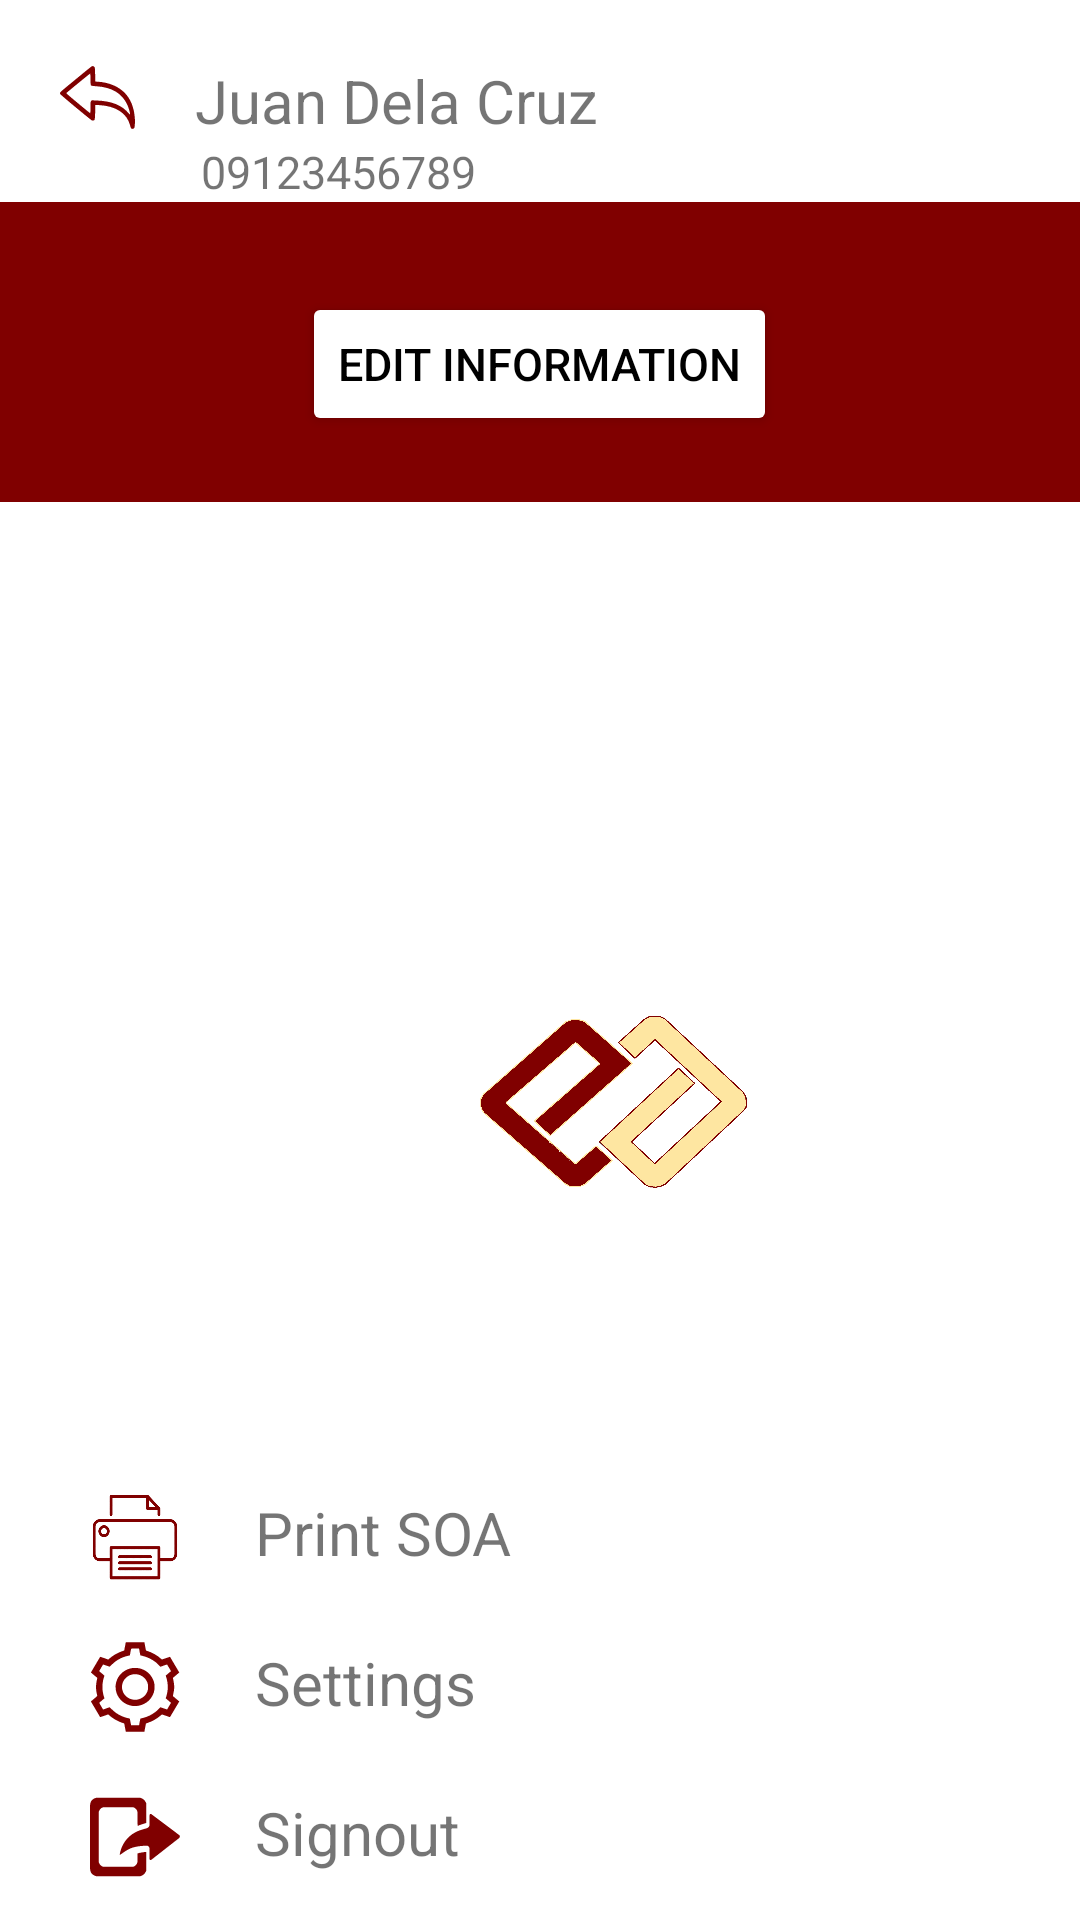

Icons on this 1080 x 1920 Android screen, each with its box as (x1, y1, x2, y2):
back: (60, 66, 135, 129)
